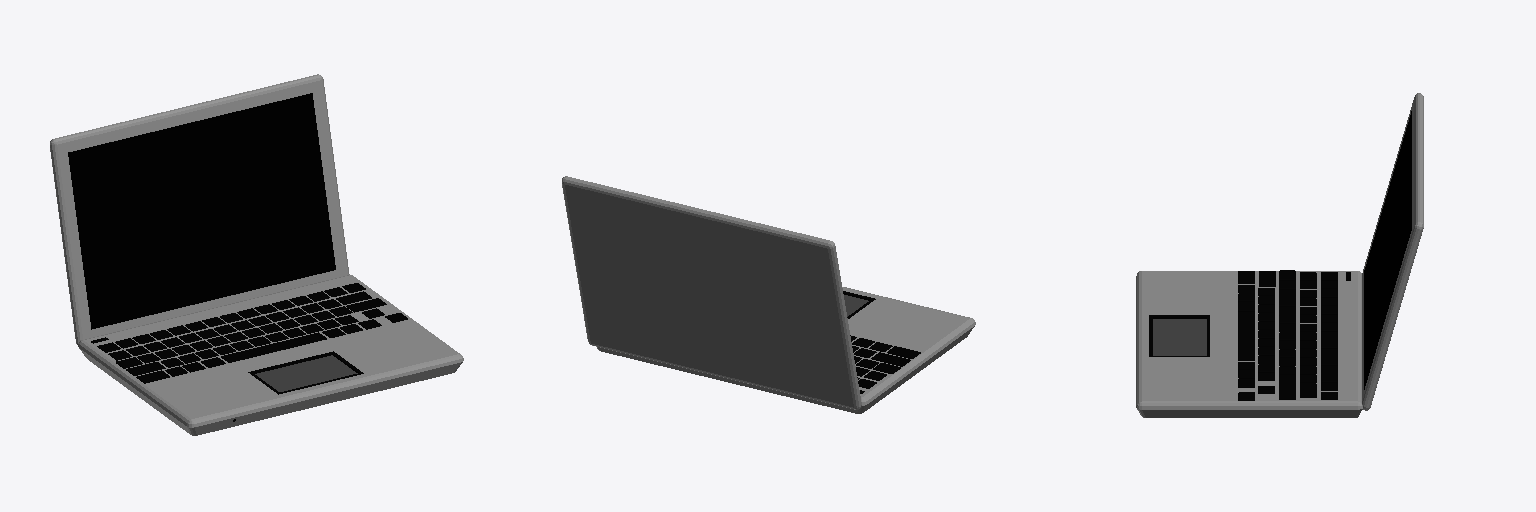
The model's file is laptop.obj.
The picture shows the model from 3 angles: view 1: azimuth 30°, elevation 25°; view 2: azimuth 150°, elevation 25°; view 3: azimuth 270°, elevation 25°; orthographic projection.
Visible parts, largest first — view 1: ChamferBox017; view 2: ChamferBox017; view 3: ChamferBox017.
Boxes of the visible parts, x1,y1,x2,y2 form: ChamferBox017: [50, 74, 463, 435]; ChamferBox017: [562, 176, 975, 413]; ChamferBox017: [1136, 93, 1423, 417].
Size of the model in its own units: 1.88 by 1.28 by 1.7.